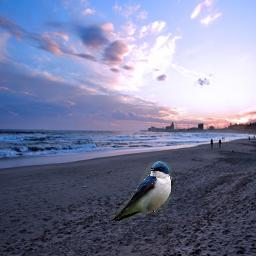Swallow: (110, 161, 174, 222)
